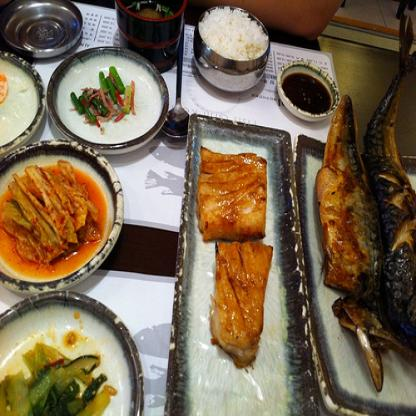Peixe: (316, 26, 415, 350)
